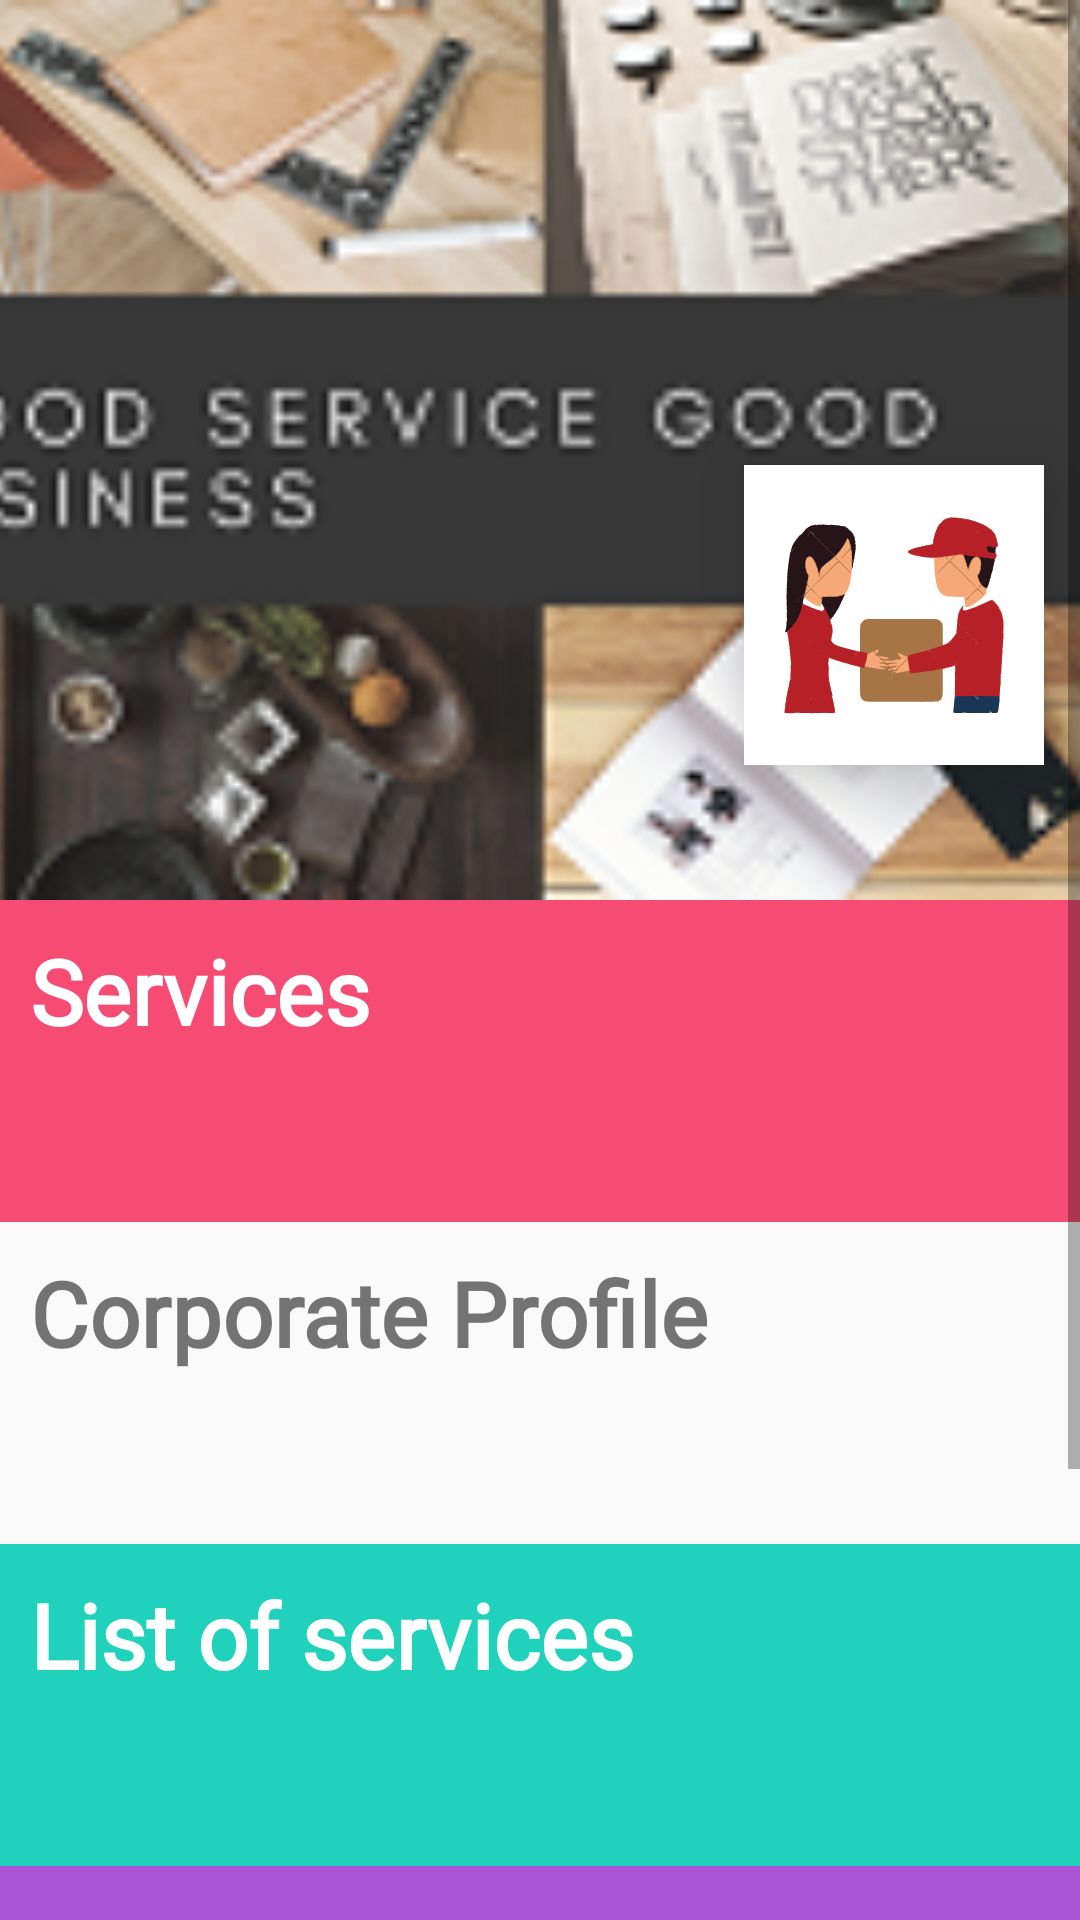

Icon click points for this 1080*1920 phone screenshot, format point (x, y):
services: point (894, 615)
